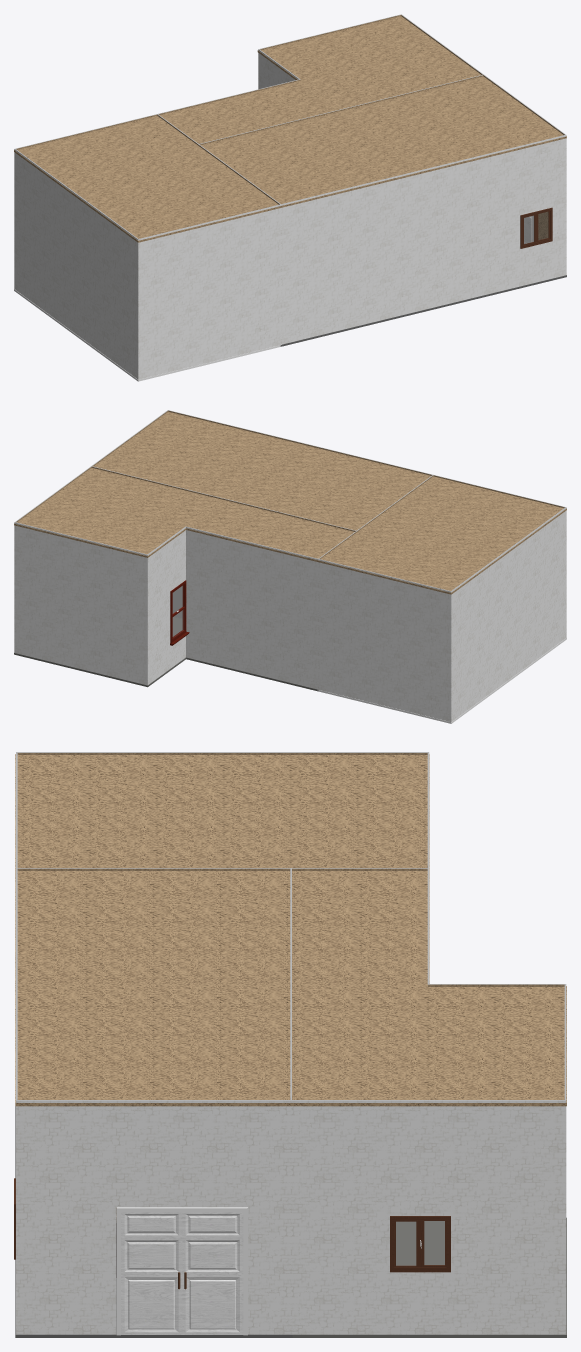
The model's file is ProcTHOR-Train-47.glb.
The picture shows the model from 3 angles, top to bottom: view 1: azimuth 30°, elevation 25°; view 2: azimuth 150°, elevation 25°; view 3: azimuth 270°, elevation 25°; orthographic projection. The views are drawn at different scales.
Parts seen in each view (by area): view 1: WallInside#wall|exterior|0.00|8.20|8.20|8.20, Ceiling#room|6|c, WallInside#wall|exterior|8.20|8.20|12.30|8.20, Ceiling#room|2|c, WallInside#wall|exterior|12.30|2.05|12.30|8.20, Ceiling#room|7|c, WallInside#wall|exterior|4.10|0.00|4.10|2.05, Floor#room|6|f, Floor#room|2|f, Window_Slider_36x36, WallInside#wall|6|0.00|4.10|8.20|4.10, WallInside#wall|6|0.00|4.10|0.00|8.20; view 2: Ceiling#room|6|c, WallInside#wall|exterior|8.20|2.05|12.30|2.05, WallInside#wall|exterior|0.00|0.00|4.10|0.00, WallInside#wall|exterior|4.10|2.05|8.20|2.05, Ceiling#room|7|c, Ceiling#room|2|c, WallInside#wall|exterior|12.30|2.05|12.30|8.20, WallInside#wall|exterior|4.10|0.00|4.10|2.05, Floor#room|7|f, Floor#room|2|f, Window_Hung_32x60, WallInside#wall|6|0.00|8.20|8.20|8.20 (+1 smaller); view 3: Ceiling#room|6|c, WallInside#wall|exterior|0.00|0.00|0.00|4.10, Ceiling#room|7|c, WallInside#wall|exterior|0.00|4.10|0.00|8.20, Ceiling#room|2|c, Doorway_Door_8a, Doorway_Door_8b, Floor#room|7|f, Doorway_Double_8, Window_Slider_36x36, WallInside#wall|2|12.30|2.05|12.30|8.20, Floor#room|6|f (+1 smaller).
Boxes of the visible parts, x1,y1,x2,y2 form: WallInside#wall|exterior|0.00|8.20|8.20|8.20: (281, 135, 566, 344); Ceiling#room|6|c: (201, 76, 566, 207); WallInside#wall|exterior|8.20|8.20|12.30|8.20: (138, 204, 281, 379); Ceiling#room|2|c: (14, 116, 281, 242); WallInside#wall|exterior|12.30|2.05|12.30|8.20: (14, 149, 138, 379); Ceiling#room|7|c: (158, 16, 480, 143); WallInside#wall|exterior|4.10|0.00|4.10|2.05: (258, 49, 299, 89); Floor#room|6|f: (280, 275, 566, 346); Floor#room|2|f: (14, 289, 281, 381); Window_Slider_36x36: (520, 207, 552, 248); WallInside#wall|6|0.00|4.10|8.20|4.10: (199, 75, 483, 145); WallInside#wall|6|0.00|4.10|0.00|8.20: (483, 75, 565, 239); Ceiling#room|6|c: (93, 412, 430, 531); WallInside#wall|exterior|8.20|2.05|12.30|2.05: (318, 559, 451, 721); WallInside#wall|exterior|0.00|0.00|4.10|0.00: (14, 522, 147, 685); WallInside#wall|exterior|4.10|2.05|8.20|2.05: (186, 527, 318, 689); Ceiling#room|7|c: (14, 468, 355, 562); Ceiling#room|2|c: (318, 476, 566, 594); WallInside#wall|exterior|12.30|2.05|12.30|8.20: (451, 507, 566, 721); WallInside#wall|exterior|4.10|0.00|4.10|2.05: (147, 527, 185, 684); Floor#room|7|f: (14, 616, 318, 691); Floor#room|2|f: (317, 637, 566, 723); Window_Hung_32x60: (170, 580, 189, 645); WallInside#wall|6|0.00|8.20|8.20|8.20: (168, 410, 432, 475); Ceiling#room|6|c: (15, 871, 292, 1106); WallInside#wall|exterior|0.00|0.00|0.00|4.10: (290, 1100, 566, 1334); Ceiling#room|7|c: (290, 871, 566, 1106); WallInside#wall|exterior|0.00|4.10|0.00|8.20: (16, 1100, 291, 1334); Ceiling#room|2|c: (15, 754, 429, 870); Doorway_Door_8a: (182, 1212, 243, 1334); Doorway_Door_8b: (121, 1212, 182, 1334); Floor#room|7|f: (290, 1217, 566, 1337); Doorway_Double_8: (116, 1207, 247, 1335); Window_Slider_36x36: (390, 1216, 450, 1272); WallInside#wall|2|12.30|2.05|12.30|8.20: (16, 752, 428, 754); Floor#room|6|f: (15, 1106, 292, 1337).
Bounding box in the file's own units: 12.41 × 3.91 × 8.26.
163 materials, 78 textured.
